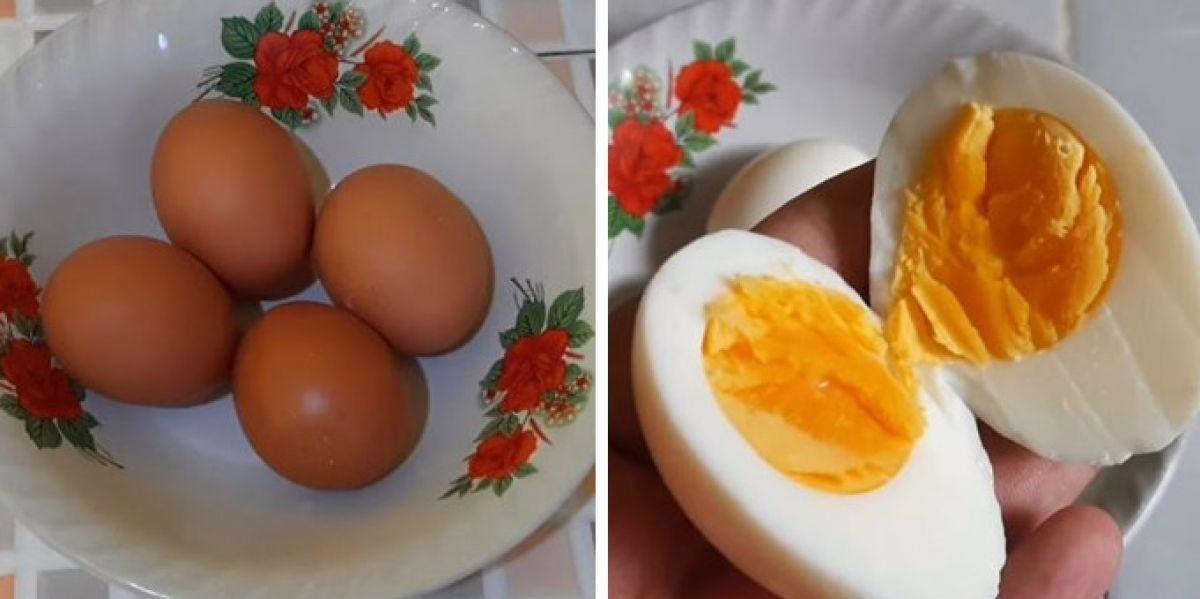telur: (958, 110, 1132, 403), (718, 302, 877, 545), (70, 262, 207, 382), (253, 332, 376, 446), (336, 196, 457, 299), (180, 115, 272, 235)
